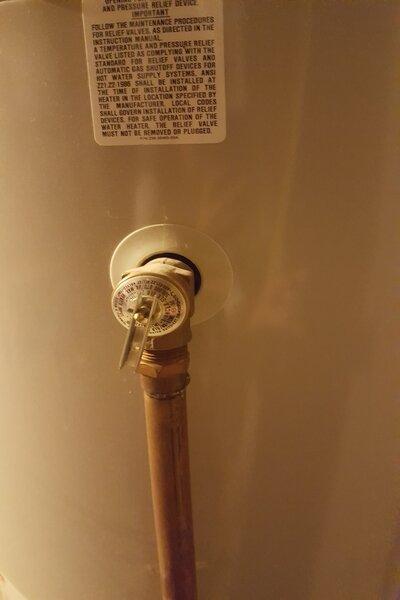valve: (110, 254, 201, 401)
